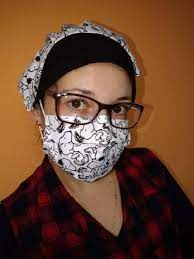with_mask_and_cap: (26, 27, 138, 184)
